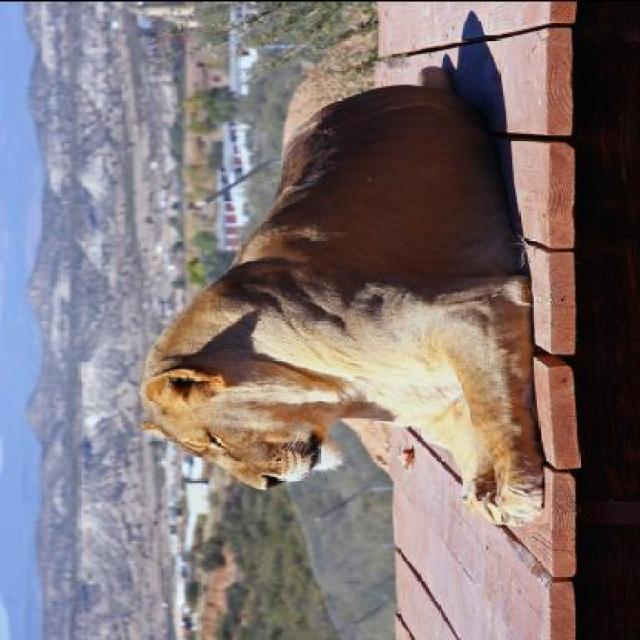Lion: (66, 58, 565, 551)
